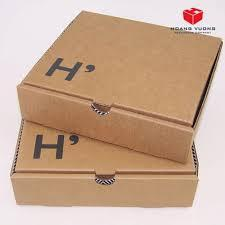box: (18, 8, 224, 165), (10, 104, 199, 208)
